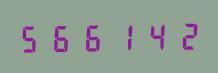five: (17, 21, 46, 54)
four: (138, 19, 167, 51)
one: (108, 20, 137, 52)
six: (78, 20, 107, 53), (47, 21, 76, 53)
two: (168, 18, 197, 51)
